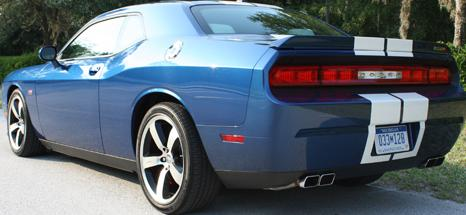back_view: (252, 38, 464, 179)
backlight: (267, 54, 465, 104)
side_glass: (48, 16, 171, 65)
